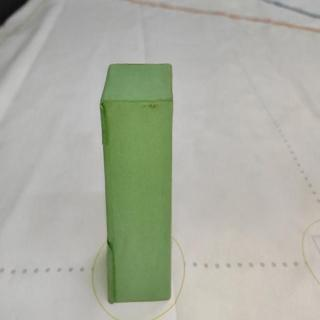greenbox: (98, 61, 177, 305)
